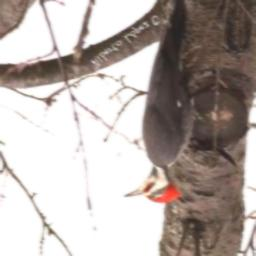Woodpecker: (120, 0, 199, 204)
